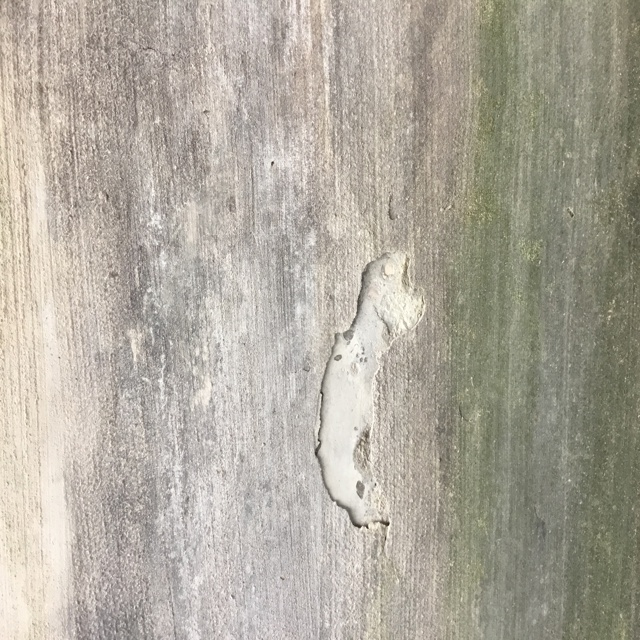spall: (309, 240, 427, 566)
